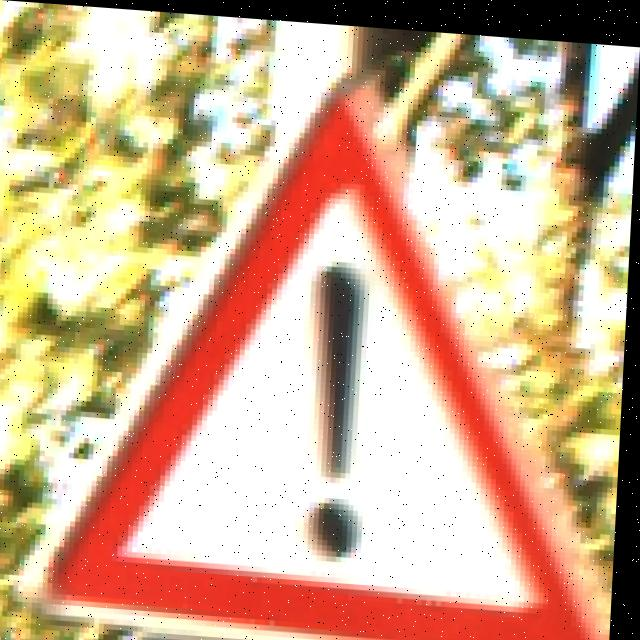warning: (44, 79, 636, 640)
